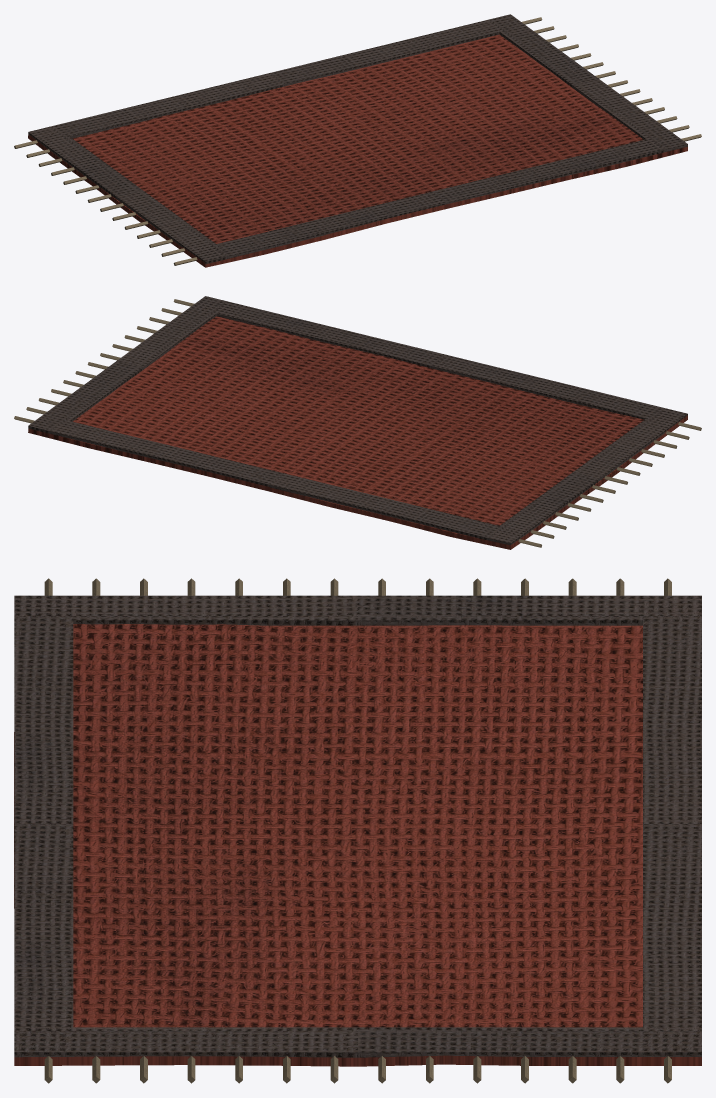
The model's file is worn-rug-v01-photo.glb.
3 views of the same model, one above another, from view 1: azimuth 30°, elevation 25°; view 2: azimuth 150°, elevation 25°; view 3: azimuth 270°, elevation 25° (orthographic). The views are drawn at different scales.
Visible parts, largest first — view 1: worn-rug; view 2: worn-rug; view 3: worn-rug.
Part boxes in pixels (box(x1,y1,x2,y2)): worn-rug: box(14, 14, 701, 267); worn-rug: box(14, 296, 701, 549); worn-rug: box(14, 578, 701, 1083).
Bounding box in the file's own units: 2.4 × 0.0371 × 1.4.
Materials: 3 (3 with a texture image).
